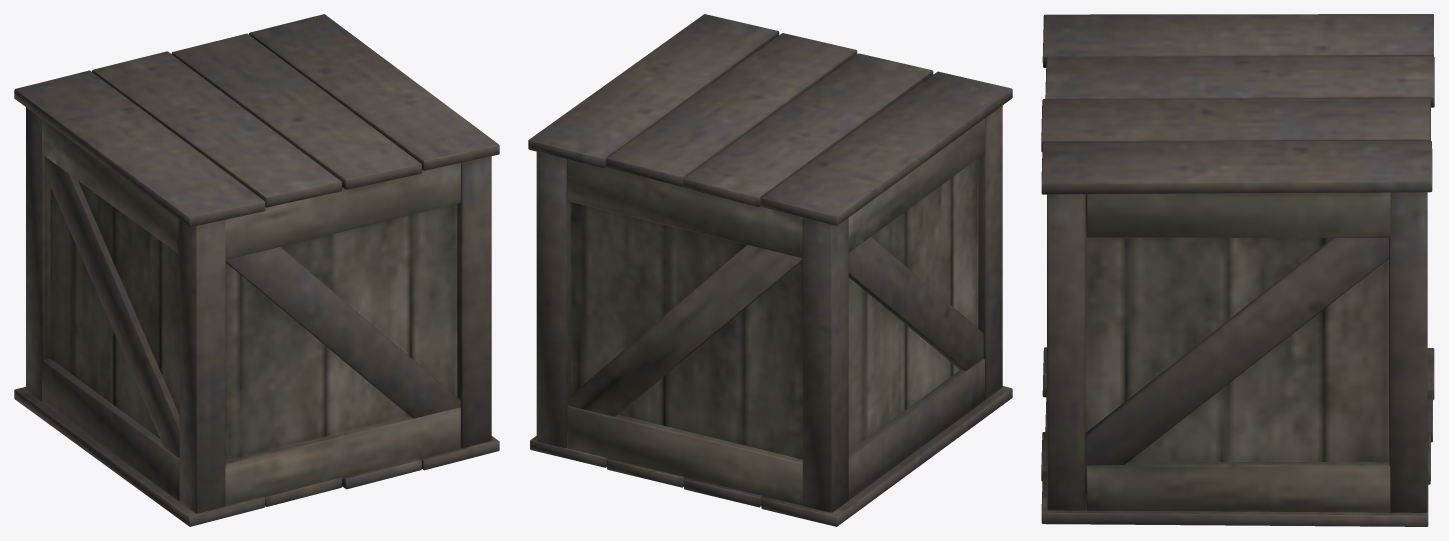
The model's file is crate.gltf.
3 renders of one model, left to right at view 1: azimuth 30°, elevation 25°; view 2: azimuth 150°, elevation 25°; view 3: azimuth 270°, elevation 25°, orthographic. The views are drawn at different scales.
Parts seen in each view (by area): view 1: crate; view 2: crate; view 3: crate.
Boxes of the visible parts, bbox=[...] form: crate: bbox=[14, 14, 499, 526]; crate: bbox=[528, 14, 1012, 526]; crate: bbox=[1041, 14, 1434, 526].
Bounding box in the file's own units: 0.5039 × 0.4836 × 0.4983.
Materials: 1 (1 with a texture image).
